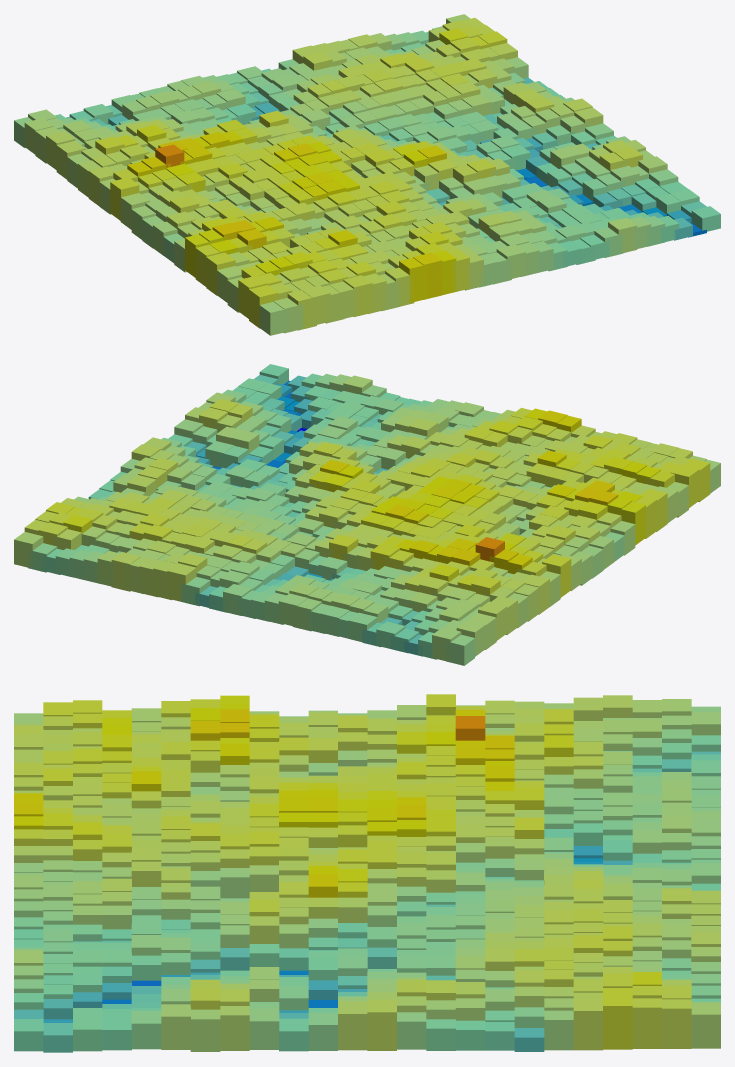
File: population.glb
3 renders of one model, top to bottom at view 1: azimuth 30°, elevation 25°; view 2: azimuth 150°, elevation 25°; view 3: azimuth 270°, elevation 25°, orthographic. The views are drawn at different scales.
Parts seen in each view (by area): view 1: population; view 2: population; view 3: population.
Part boxes in pixels (x1,y1,x2,y2): population: (14, 14, 720, 335); population: (14, 364, 720, 665); population: (14, 694, 720, 1052).
Size of the model in its own units: 2429 by 276 by 2395.
